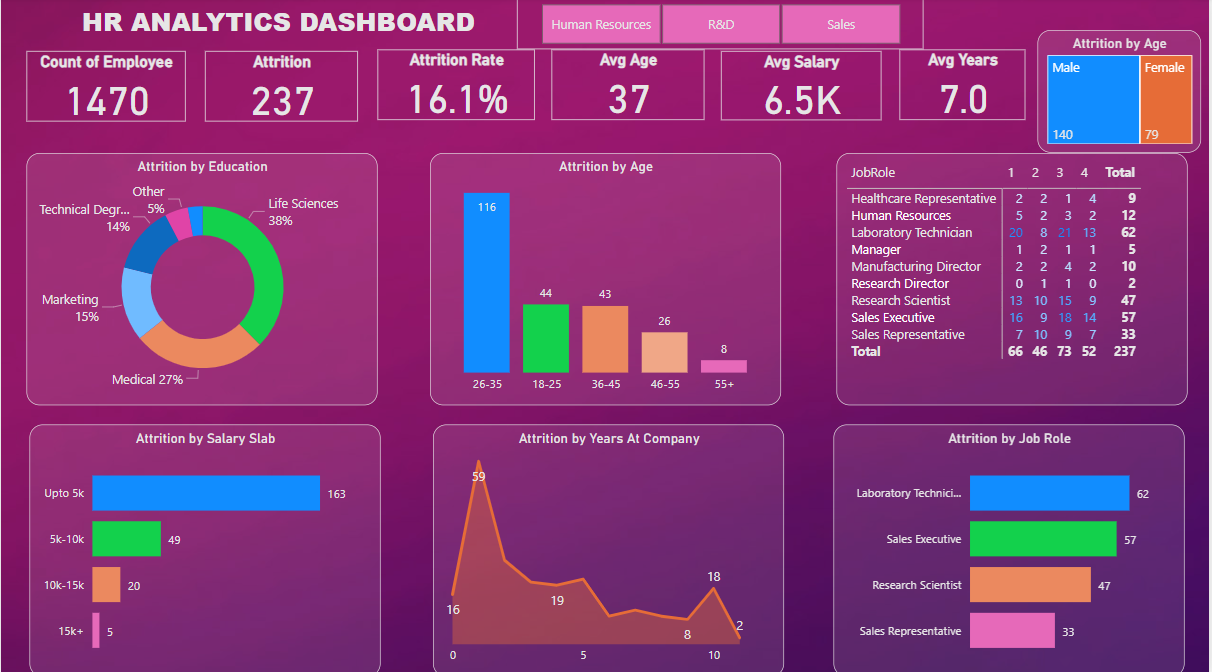

The dashboard page shown, as its layout file describes it:
{"tool":"powerbi","page":{"name":"Attrition","canvas":[1280,720],"ordinal":0},"visuals":[{"type":"card","title":"Count of Employee","fields":{"Values":["CountNonNull(HR_Analytics.EmpID)"]},"box":[27,57.2,168.5,74.7],"z":0},{"type":"card","title":"Attrition","fields":{"Values":["Sum(HR_Analytics.Attrition Count)"]},"box":[216.2,57.2,162.1,74.7],"z":1000},{"type":"card","title":"Attrition Rate","fields":{"Values":["HR_Analytics.Attrition Rate"]},"box":[398.9,55.6,166.9,74.7],"z":2000},{"type":"card","title":"Avg Age","fields":{"Values":["Avg(HR_Analytics.Age)"]},"box":[583.3,55.6,162.1,74.7],"z":3000},{"type":"card","title":"Avg Salary","fields":{"Values":["Avg(HR_Analytics.MonthlyIncome)"]},"box":[762.9,57.2,170.1,73.1],"z":4000},{"type":"card","title":"Avg Years","fields":{"Values":["Avg(HR_Analytics.YearsAtCompany)"]},"box":[952.1,55.6,133.5,74.7],"z":5000},{"type":"donutChart","title":"Attrition by Education","fields":{"Category":["HR_Analytics.EducationField"],"Y":["Sum(HR_Analytics.Attrition Count)"]},"box":[27,165.3,371.9,267],"z":6000},{"type":"columnChart","title":"Attrition by Age","fields":{"Category":["HR_Analytics.AgeGroup"],"Y":["Sum(HR_Analytics.Attrition Count)"]},"box":[454.6,165.3,371.9,267],"z":7000},{"type":"pivotTable","fields":{"Rows":["HR_Analytics.JobRole"],"Columns":["HR_Analytics.JobSatisfaction"],"Values":["Sum(HR_Analytics.Attrition Count)"]},"box":[885.3,165.3,371.9,267],"z":8000},{"type":"barChart","title":"Attrition by Salary Slab","fields":{"Category":["HR_Analytics.SalarySlab"],"Y":["Sum(HR_Analytics.Attrition Count)"]},"box":[30.2,453,371.9,267],"z":9000},{"type":"barChart","title":"Attrition by Job Role","fields":{"Category":["HR_Analytics.JobRole"],"Y":["Sum(HR_Analytics.Attrition Count)"]},"box":[882.6,452.4,372,267.1],"z":10000},{"type":"areaChart","title":"Attrition by Years At Company","fields":{"Category":["HR_Analytics.YearsAtCompany"],"Y":["Sum(HR_Analytics.Attrition Count)"]},"box":[457.2,452.4,372,267.1],"z":11000},{"type":"treemap","title":"Attrition by Age","fields":{"Group":["HR_Analytics.Gender"],"Values":["Sum(HR_Analytics.Attrition Count)"]},"box":[1098.3,35,173.2,130.3],"z":12000},{"type":"slicer","fields":{"Values":["HR_Analytics.Department"]},"box":[546.8,0,430.7,55.6],"z":13000},{"type":"textbox","box":[22.3,1.6,543.6,54],"z":14000}]}

Visuals, with their boxes in screenshot pixels (x1, y1, x2, y2), scaled from the page's 1280x720 canvas onto the 1212x672 screenshot:
"Count of Employee" card: bbox=[26, 53, 185, 123]
"Attrition" card: bbox=[205, 53, 358, 123]
"Attrition Rate" card: bbox=[378, 52, 536, 122]
"Avg Age" card: bbox=[552, 52, 706, 122]
"Avg Salary" card: bbox=[722, 53, 883, 122]
"Avg Years" card: bbox=[902, 52, 1028, 122]
"Attrition by Education" donutChart: bbox=[26, 154, 378, 403]
"Attrition by Age" columnChart: bbox=[430, 154, 783, 403]
pivotTable - HR_Analytics.JobRole x HR_Analytics.JobSatisfaction: bbox=[838, 154, 1190, 403]
"Attrition by Salary Slab" barChart: bbox=[29, 423, 381, 671]
"Attrition by Job Role" barChart: bbox=[836, 422, 1188, 671]
"Attrition by Years At Company" areaChart: bbox=[433, 422, 785, 671]
"Attrition by Age" treemap: bbox=[1040, 33, 1204, 154]
slicer - HR_Analytics.Department: bbox=[518, 0, 926, 52]
textbox: bbox=[21, 1, 536, 52]
